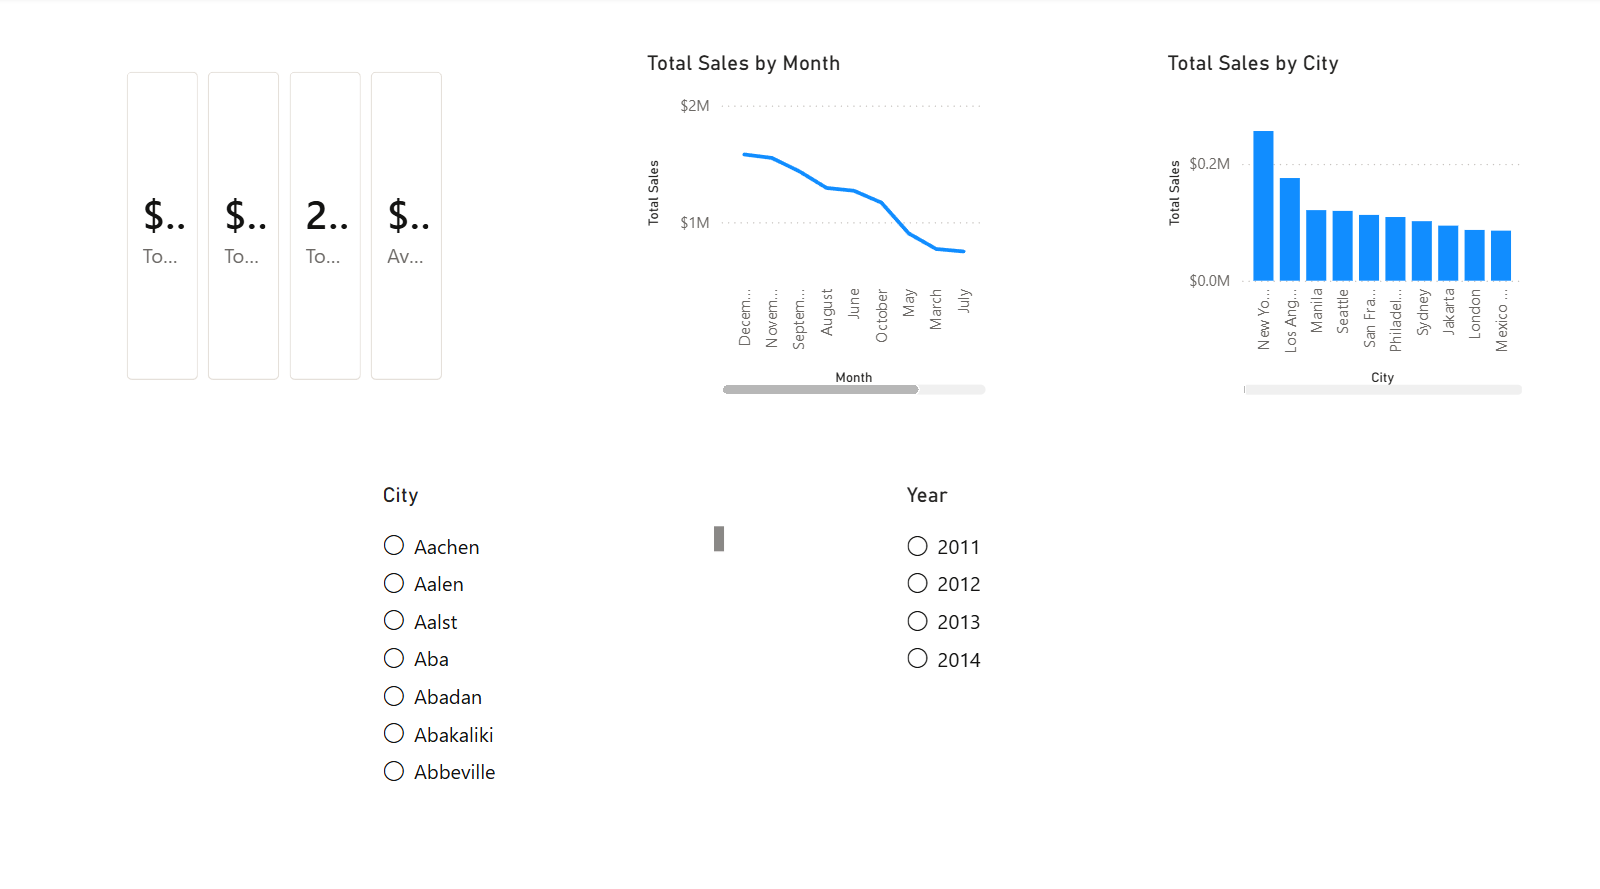

This screenshot's page, from the dashboard's own definition file:
{"tool":"powerbi","page":{"name":"Executive Summary","canvas":[1280,720],"ordinal":0},"visuals":[{"type":"cardVisual","fields":{"Data":["DAX_Measures.Total Sales","DAX_Measures.Total Profit","DAX_Measures.Total Orders","DAX_Measures.Average Order Value"]},"box":[39.5,43.1,600.9,280.1],"z":0},{"type":"lineChart","fields":{"Category":["DateTable.Month"],"Y":["DAX_Measures.Total Sales"]},"box":[640.4,390.2,608.1,280.1],"z":1000},{"type":"clusteredColumnChart","fields":{"Category":["Region.City"],"Y":["DAX_Measures.Total Sales"]},"box":[640.4,43.1,608.1,280.1],"z":2000},{"type":"listSlicer","fields":{"Values":["Region.City"]},"box":[314.8,390.2,282.5,246.6],"z":3000},{"type":"listSlicer","fields":{"Values":["DateTable.Year"]},"box":[14.4,390.2,280.1,246.6],"z":4000}]}

Visuals, with their boxes in screenshot pixels (x1, y1, x2, y2), scaled from the page's 1280x720 canvas onto the 1600x889 screenshot:
cardVisual - DAX_Measures.Total Sales x DAX_Measures.Total Profit: bbox=[49, 53, 800, 399]
lineChart - DateTable.Month x DAX_Measures.Total Sales: bbox=[800, 482, 1561, 828]
clusteredColumnChart - Region.City x DAX_Measures.Total Sales: bbox=[800, 53, 1561, 399]
listSlicer - Region.City: bbox=[394, 482, 747, 786]
listSlicer - DateTable.Year: bbox=[18, 482, 368, 786]
